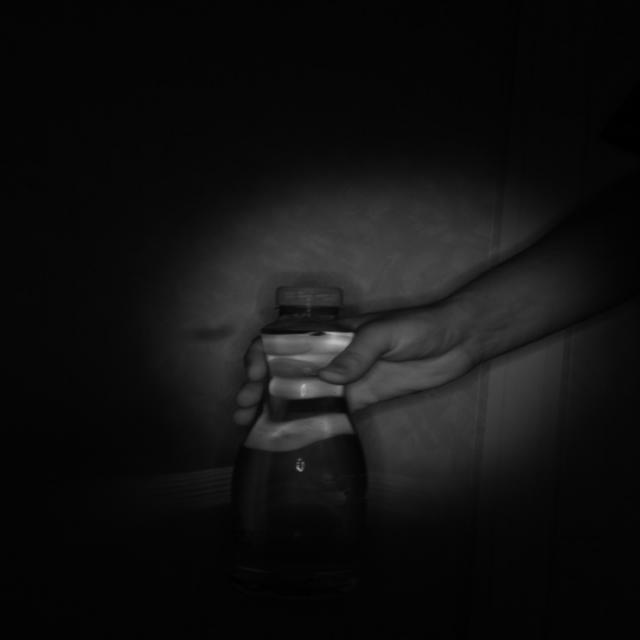Good: (274, 280, 348, 312)
